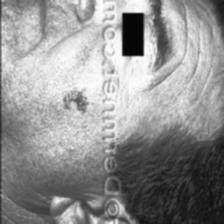Potentially Malignant Skin Tumors: (60, 83, 88, 115)
